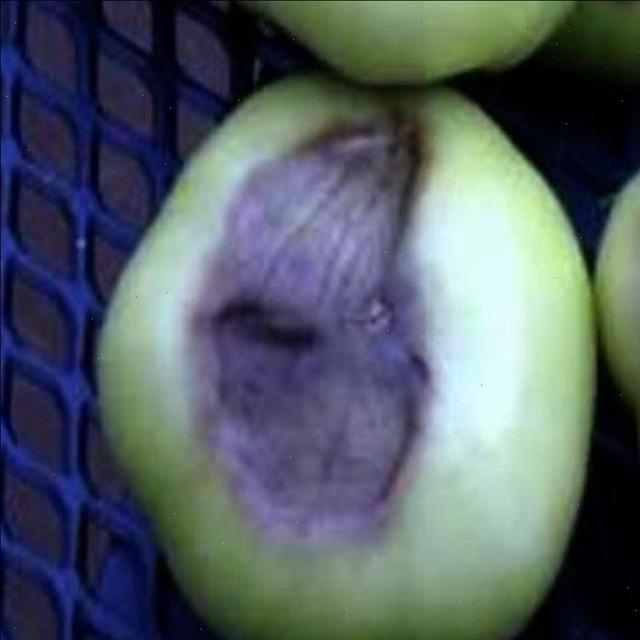Blossom End Rot Fruit: (118, 72, 289, 366)
